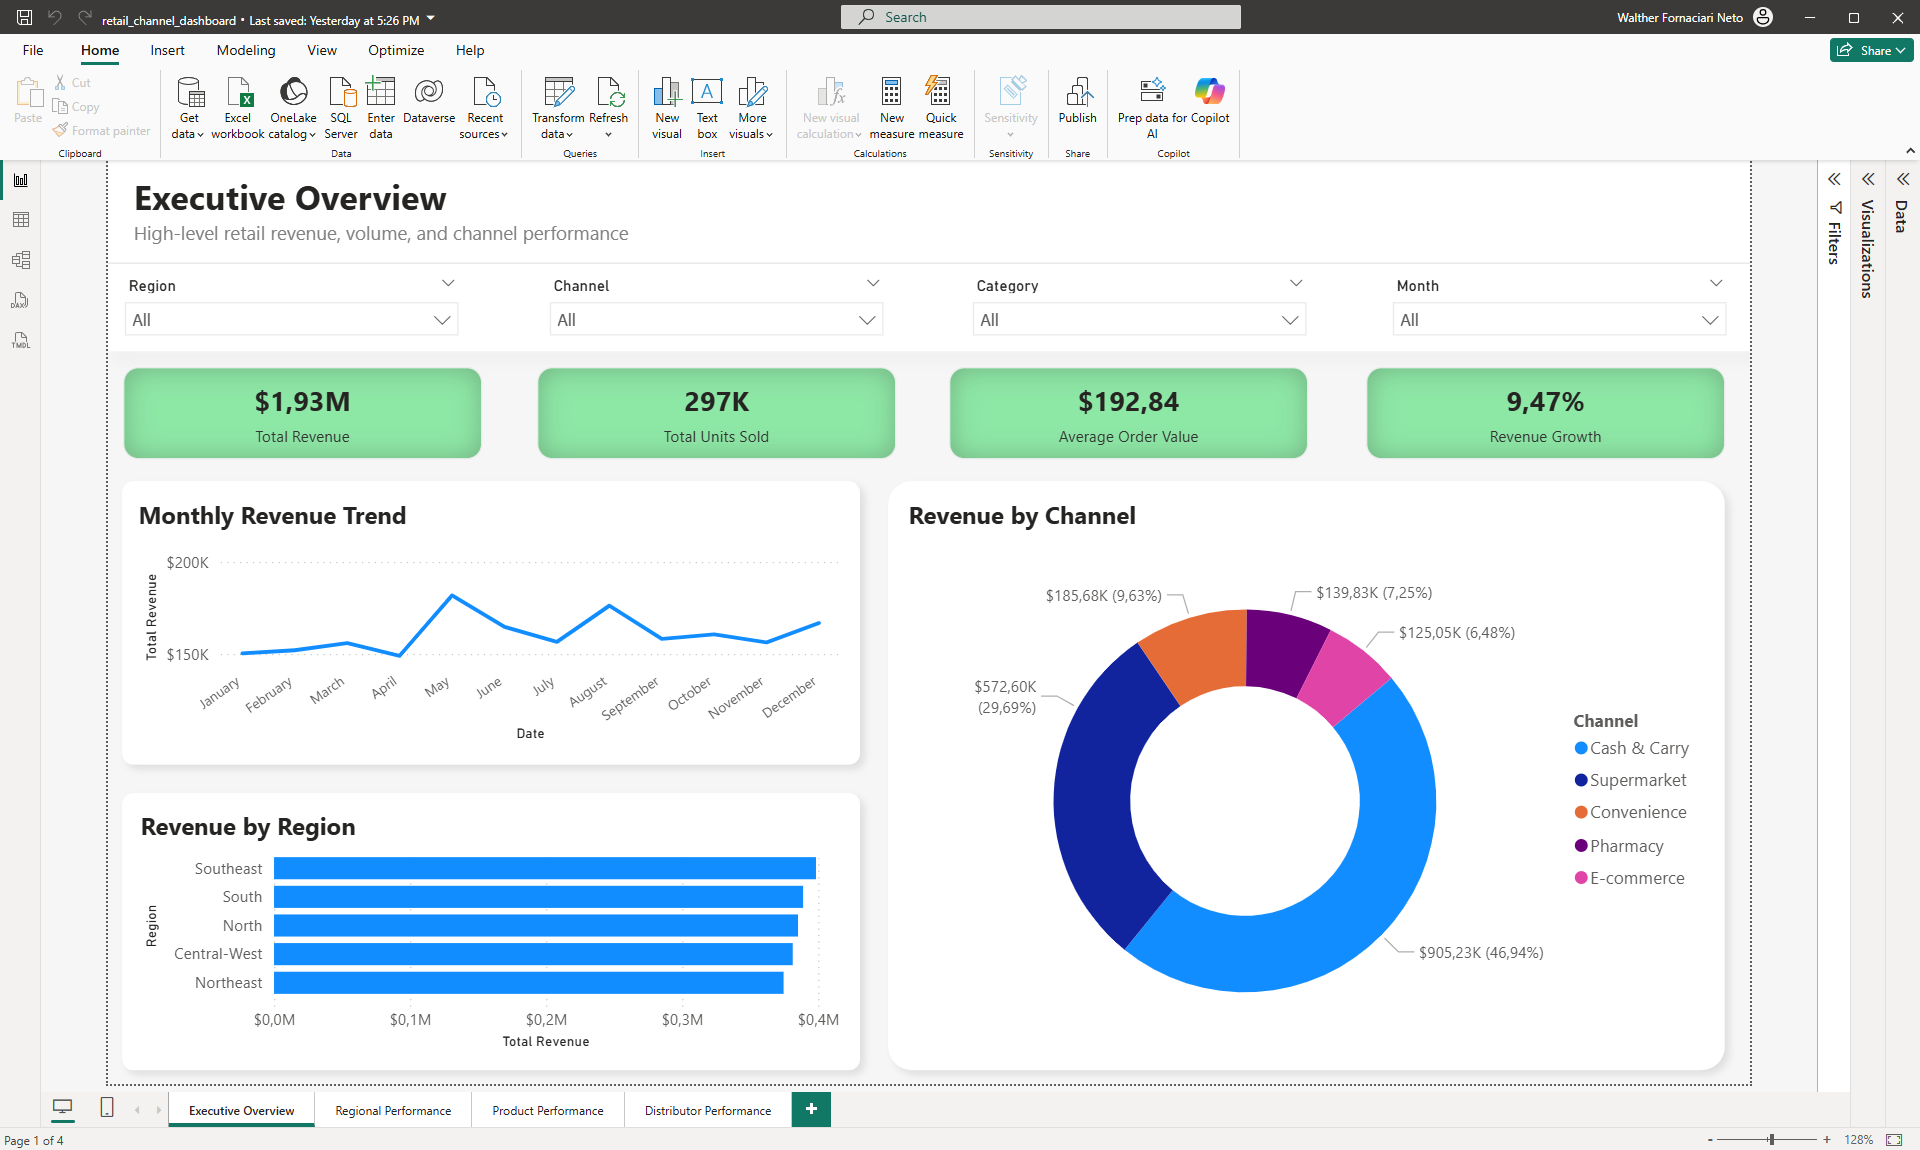

The dashboard page shown, as its layout file describes it:
{"tool":"powerbi","page":{"name":"Executive Overview","canvas":[1280,720],"ordinal":0},"visuals":[{"type":"textbox","box":[0,0,1280,149.1],"z":0},{"type":"shape","box":[597,239,674,481],"z":1000},{"type":"shape","box":[0,482,597,238],"z":2000},{"type":"slicer","fields":{"Values":["public dim_region.region_name"]},"box":[3,86,280,70],"z":3000},{"type":"slicer","fields":{"Values":["public dim_channel.channel_name"]},"box":[334,86,280,70],"z":4000},{"type":"slicer","fields":{"Values":["public dim_product.category"]},"box":[664,86,280,70],"z":5000},{"type":"slicer","fields":{"Values":["public dim_date.month_name"]},"box":[991,86,280,70],"z":6000},{"type":"card","fields":{"Values":["public fact_sales.Total Revenue"]},"box":[12,161,280,72],"z":7000},{"type":"shape","box":[0,239,597,243],"z":8000},{"type":"lineChart","fields":{"Y":["public fact_sales.Total Revenue"],"Category":["public dim_date.month_name"]},"box":[23,299,552,158],"z":9000},{"type":"barChart","title":"Revenue by Region","fields":{"Y":["public fact_sales.Total Revenue"],"Category":["public dim_region.region_name"]},"box":[23,521,552,176],"z":10000},{"type":"donutChart","title":"Revenue by Channel","fields":{"Y":["public fact_sales.Total Revenue"],"Category":["public dim_channel.channel_name"]},"box":[625,279,622,441],"z":11000},{"type":"textbox","box":[20,501,546,40],"z":12000},{"type":"textbox","box":[19,259,546,40],"z":13000},{"type":"card","fields":{"Values":["public fact_sales.Total Units Sold"]},"box":[334,161,280,72],"z":14000},{"type":"card","fields":{"Values":["public fact_sales.Average Order Value"]},"box":[655,161,280,72],"z":15000},{"type":"card","fields":{"Values":["public fact_sales.Revenue Growth %"]},"box":[980,161,280,72],"z":16000},{"type":"shape","box":[0,71,1280,19],"z":17000},{"type":"textbox","box":[619,259,546,40],"z":18000}]}

Visuals, with their boxes on the page's 1280x720 design canvas (x1, y1, x2, y2). These are canvas units, not pixel positions in the 1920x1150 screenshot, which may show the page scaled, cropped or inside an application window:
textbox: x1=0 y1=0 x2=1280 y2=149
shape: x1=597 y1=239 x2=1271 y2=720
shape: x1=0 y1=482 x2=597 y2=720
slicer - public dim_region.region_name: x1=3 y1=86 x2=283 y2=156
slicer - public dim_channel.channel_name: x1=334 y1=86 x2=614 y2=156
slicer - public dim_product.category: x1=664 y1=86 x2=944 y2=156
slicer - public dim_date.month_name: x1=991 y1=86 x2=1271 y2=156
card - public fact_sales.Total Revenue: x1=12 y1=161 x2=292 y2=233
shape: x1=0 y1=239 x2=597 y2=482
lineChart - public fact_sales.Total Revenue x public dim_date.month_name: x1=23 y1=299 x2=575 y2=457
"Revenue by Region" barChart: x1=23 y1=521 x2=575 y2=697
"Revenue by Channel" donutChart: x1=625 y1=279 x2=1247 y2=720
textbox: x1=20 y1=501 x2=566 y2=541
textbox: x1=19 y1=259 x2=565 y2=299
card - public fact_sales.Total Units Sold: x1=334 y1=161 x2=614 y2=233
card - public fact_sales.Average Order Value: x1=655 y1=161 x2=935 y2=233
card - public fact_sales.Revenue Growth %: x1=980 y1=161 x2=1260 y2=233
shape: x1=0 y1=71 x2=1280 y2=90
textbox: x1=619 y1=259 x2=1165 y2=299
